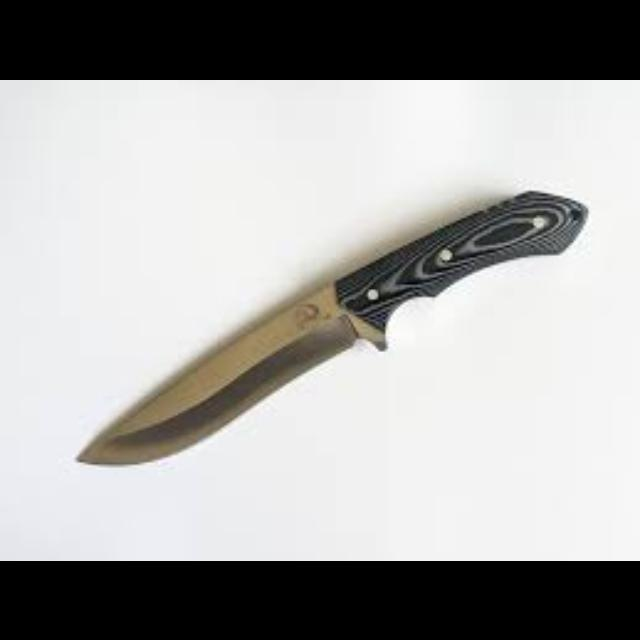knife: (75, 186, 588, 464)
